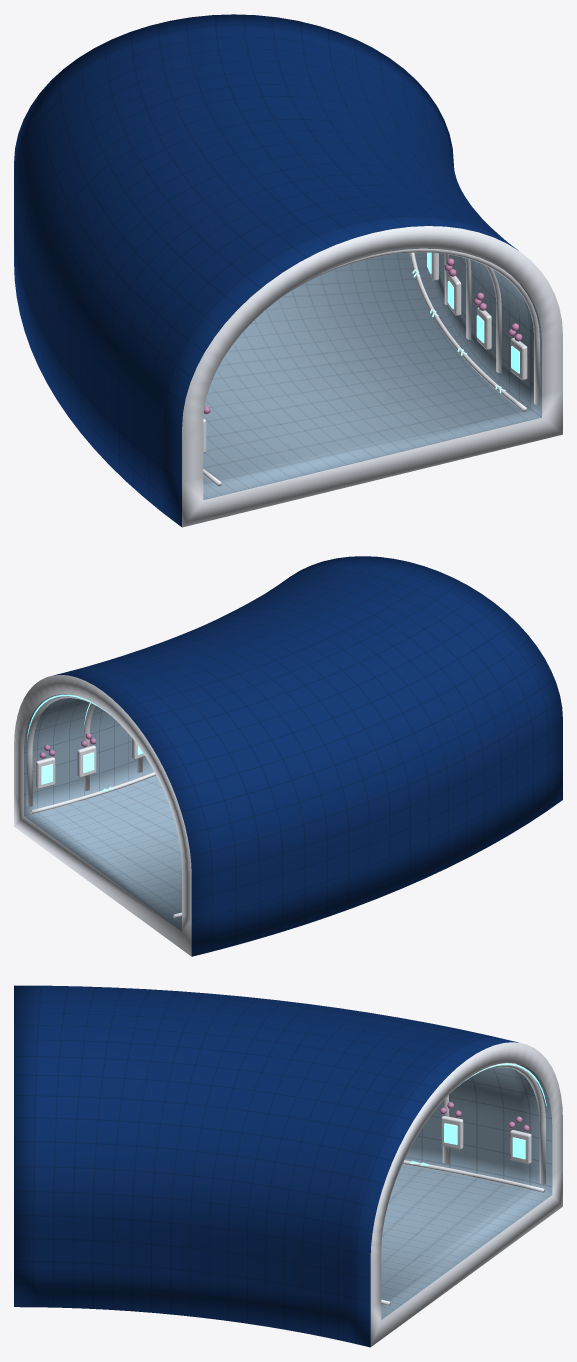
The model's file is curve_right_30.glb.
The picture shows the model from 3 angles, top to bottom: view 1: azimuth 30°, elevation 25°; view 2: azimuth 150°, elevation 25°; view 3: azimuth 270°, elevation 25°; orthographic projection. The views are drawn at different scales.
Parts seen in each view (by area): view 1: TunnelGeometry; view 2: TunnelGeometry; view 3: TunnelGeometry.
Part boxes in pixels (left/top/right/bottom): TunnelGeometry: left=14, top=14, right=562, bottom=527; TunnelGeometry: left=14, top=556, right=562, bottom=956; TunnelGeometry: left=14, top=985, right=562, bottom=1347.
Size of the model in its own units: 19.1 by 9.52 by 21.83.
5 materials, 2 textured.
